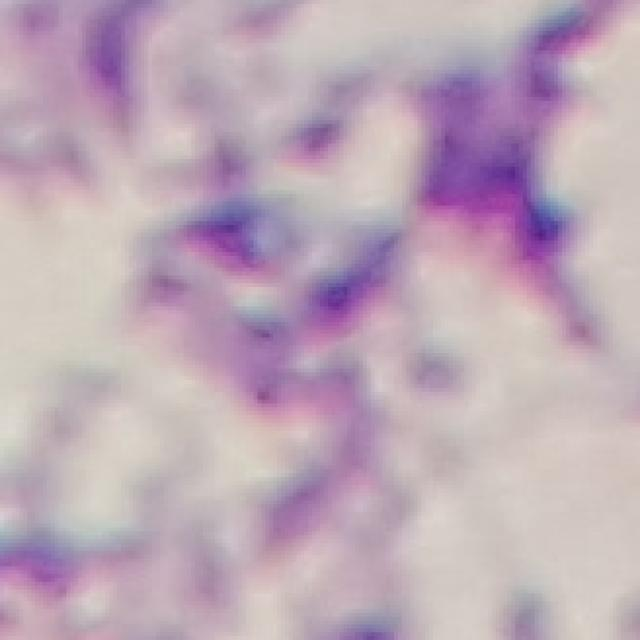non-sperm: (114, 64, 558, 435)
